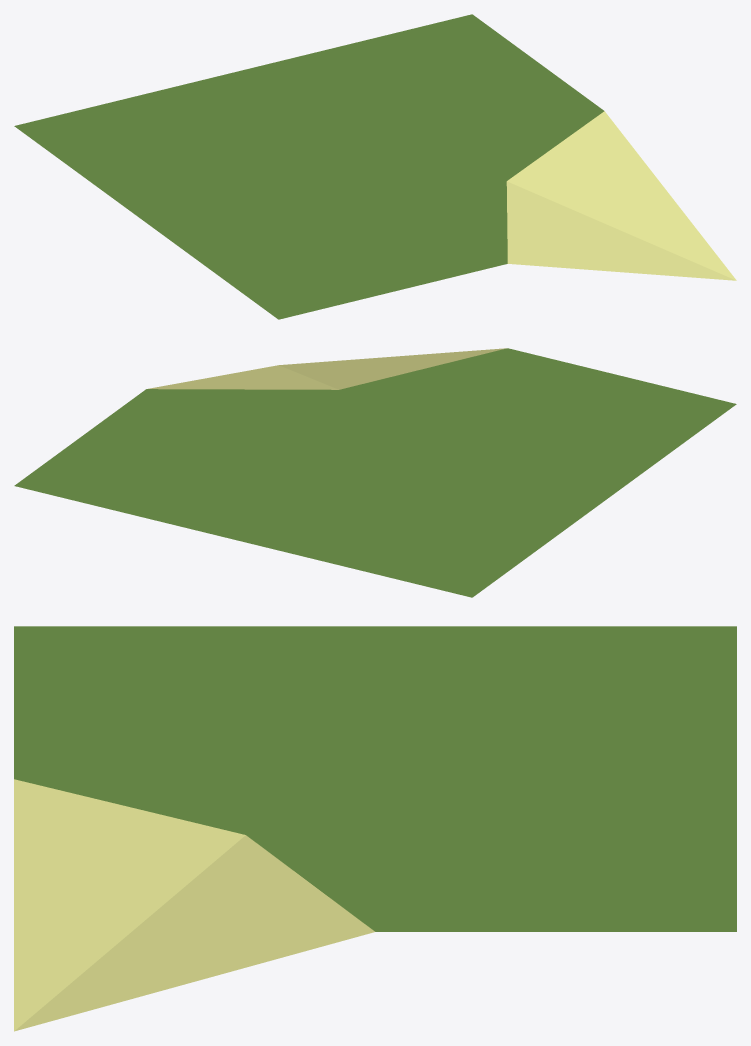
The model's file is water_grass_inner_corner.fbx.
3 views of the same model, one above another, from view 1: azimuth 30°, elevation 25°; view 2: azimuth 150°, elevation 25°; view 3: azimuth 270°, elevation 25° (orthographic). The views are drawn at different scales.
Parts seen in each view (by area): view 1: water_grass_inner_corner; view 2: water_grass_inner_corner; view 3: water_grass_inner_corner.
Boxes of the visible parts, box(x1,y1,x2,y2) form: water_grass_inner_corner: box(14, 14, 736, 319); water_grass_inner_corner: box(14, 348, 736, 597); water_grass_inner_corner: box(14, 626, 736, 1031).
Size of the model in its own units: 200 by 30.4 by 200.
